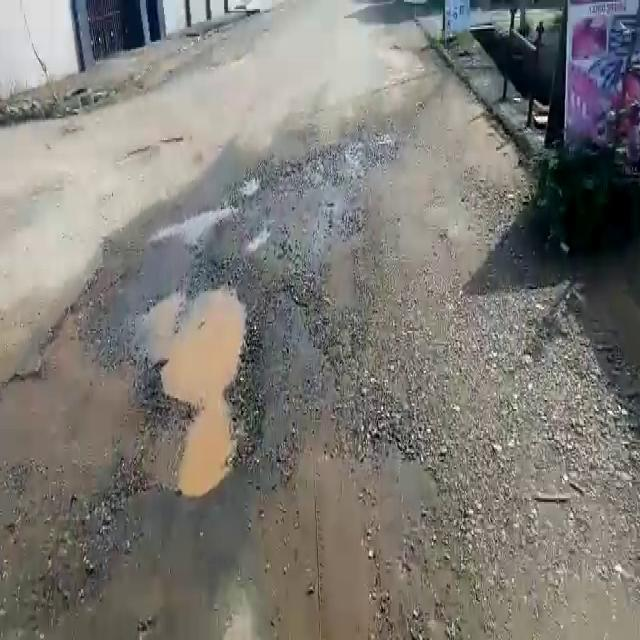Pothole: (116, 267, 267, 495), (242, 175, 260, 197)
